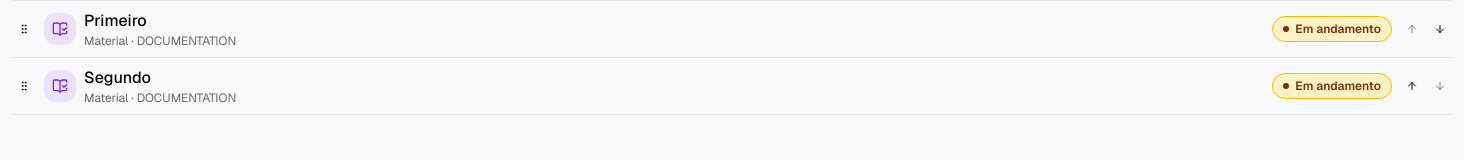
Test case: ResourceOrderList › reports a reorder failure after rolling the order back
This screenshot has width=1464, height=160.
Click the button named "Mover Primeiro para baixo".
click(1440, 29)  # box [1428,17,1452,41]
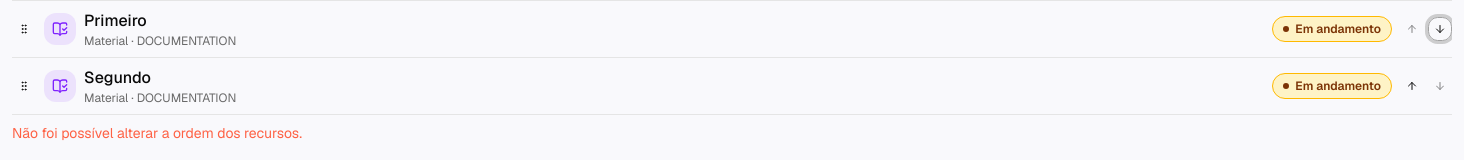
Result: the message reads "Não foi possível alterar a ordem dos recursos." at [12,124,302,142]
